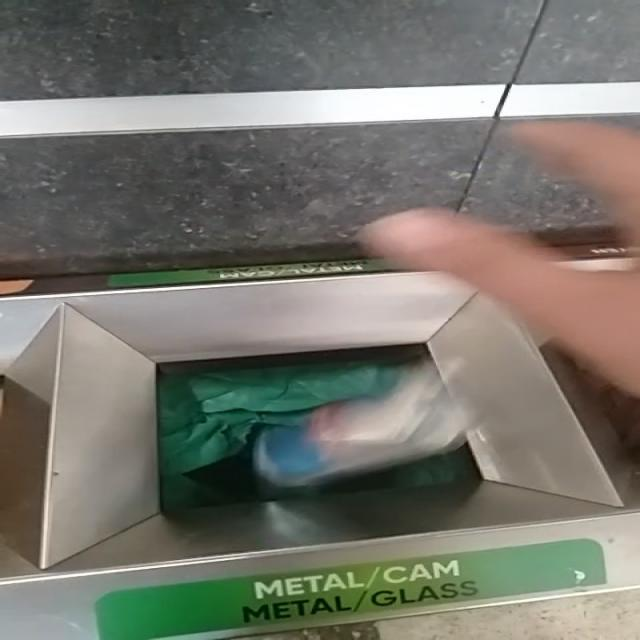bin: (1, 273, 639, 640)
metal: (255, 356, 473, 487)
